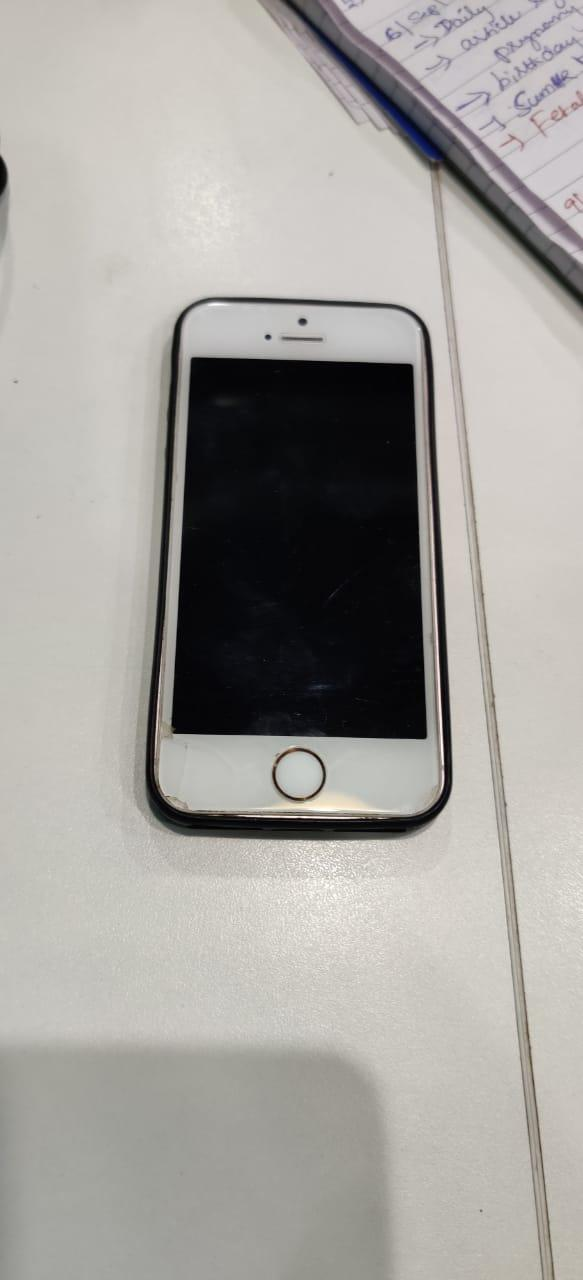Phone: (126, 276, 463, 865)
